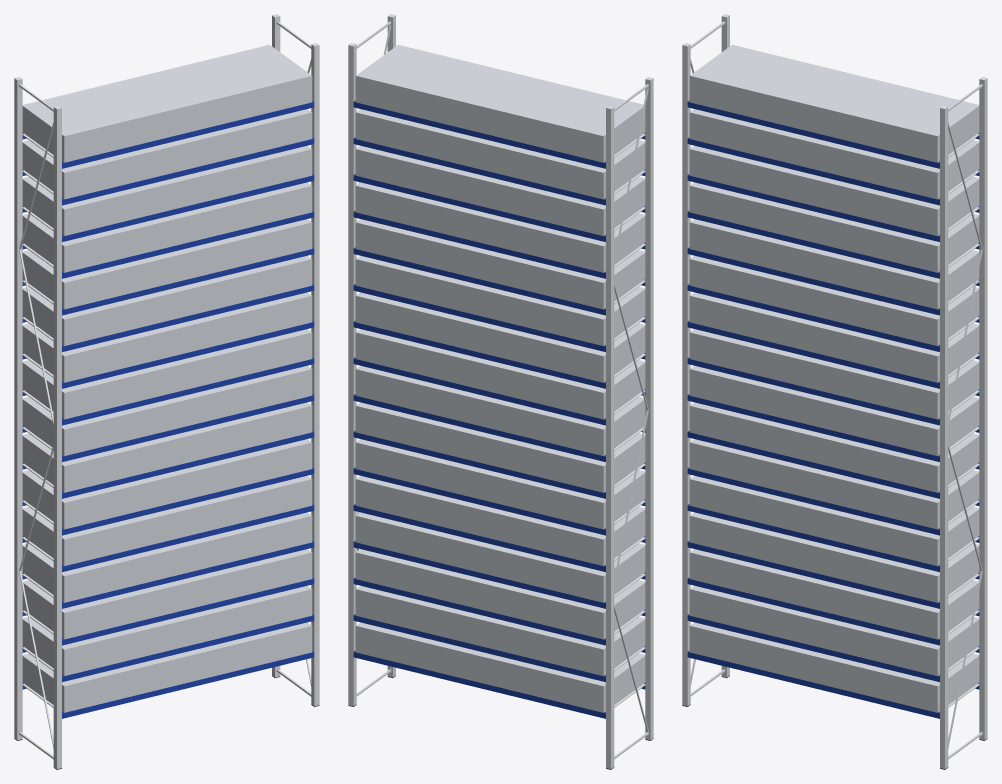
File: SM_MPR_CADRack_F16_W144_Standard_LOD2.fbx
The picture shows the model from 3 angles, left to right: view 1: azimuth 30°, elevation 25°; view 2: azimuth 150°, elevation 25°; view 3: azimuth 330°, elevation 25°; orthographic projection.
Visible parts, largest first — view 1: SM_MPR_CADRack_F16_W144_Standard_LOD2; view 2: SM_MPR_CADRack_F16_W144_Standard_LOD2; view 3: SM_MPR_CADRack_F16_W144_Standard_LOD2.
Part boxes in pixels (x1,y1,x2,y2): SM_MPR_CADRack_F16_W144_Standard_LOD2: (14, 14, 319, 769); SM_MPR_CADRack_F16_W144_Standard_LOD2: (348, 14, 653, 769); SM_MPR_CADRack_F16_W144_Standard_LOD2: (682, 14, 987, 769).
Size of the model in its own units: 381 by 107 by 915.
